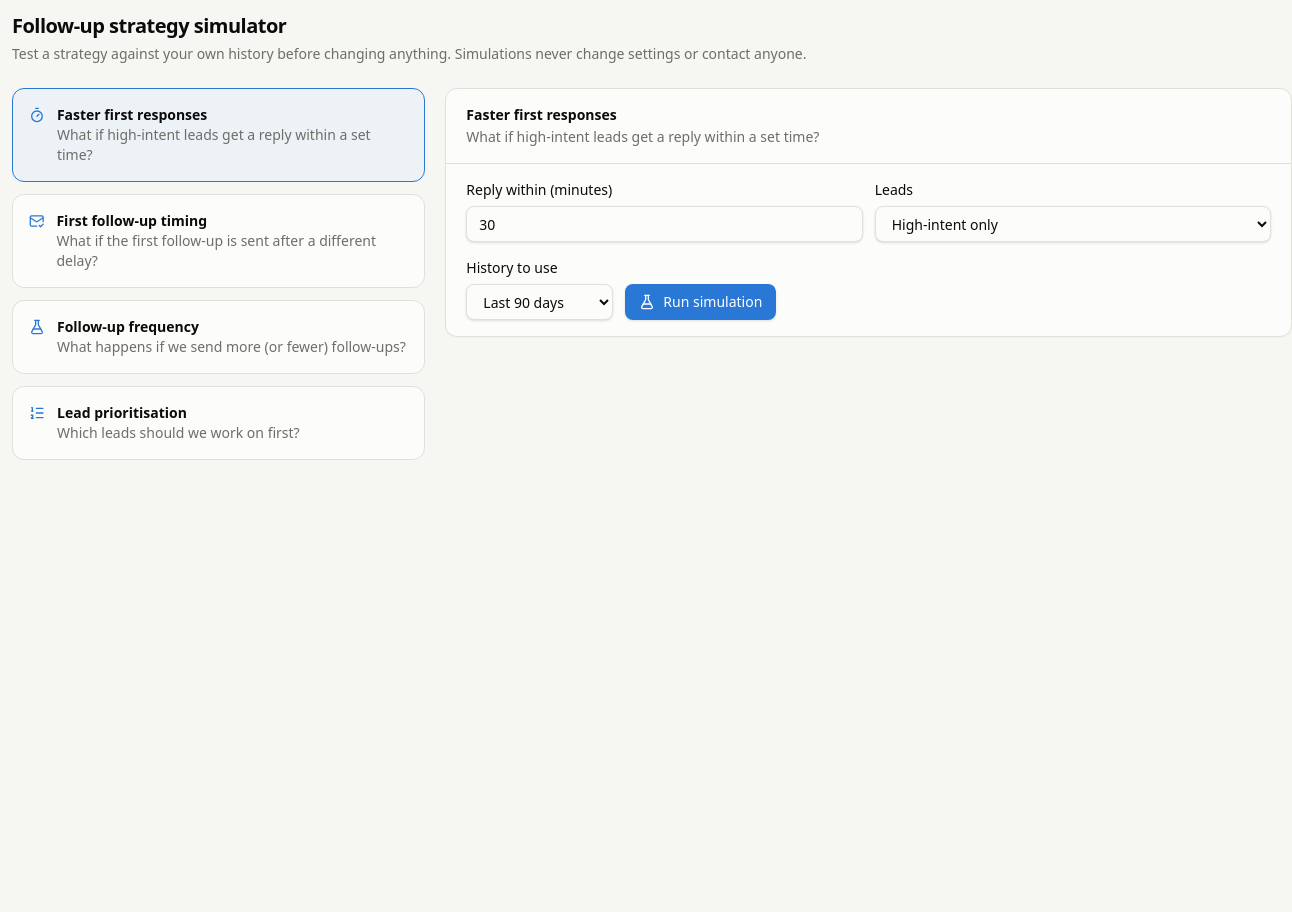
Test: Follow-up strategy simulator › runs a scenario, labels the result as a simulation and refuses to estimate on small samples
Click the button "Run simulation". click: [701, 302]
box: [625,284,776,320]
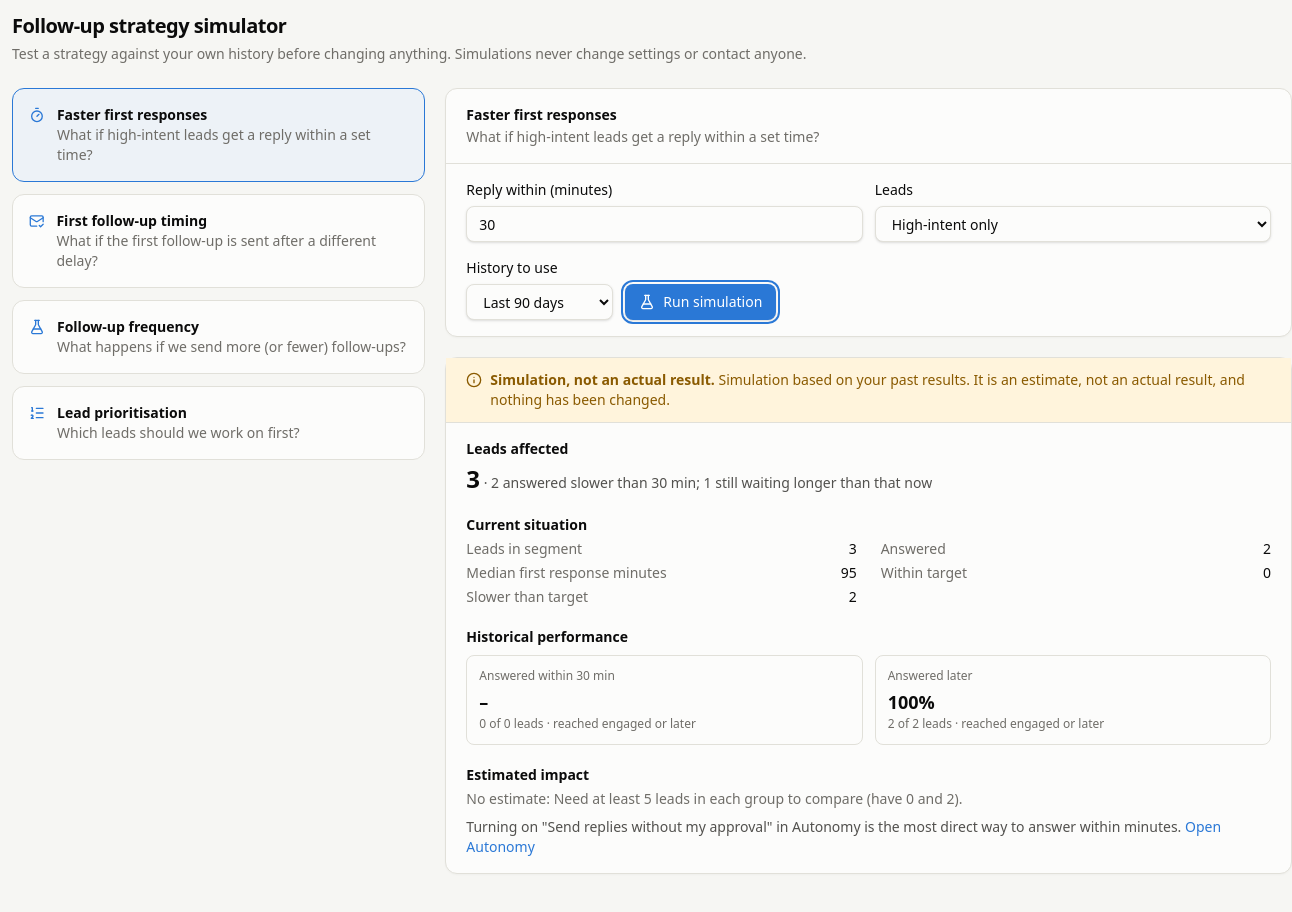
Expected: the text "Simulation, not an actual result." is shown, [490,370,715,389]
